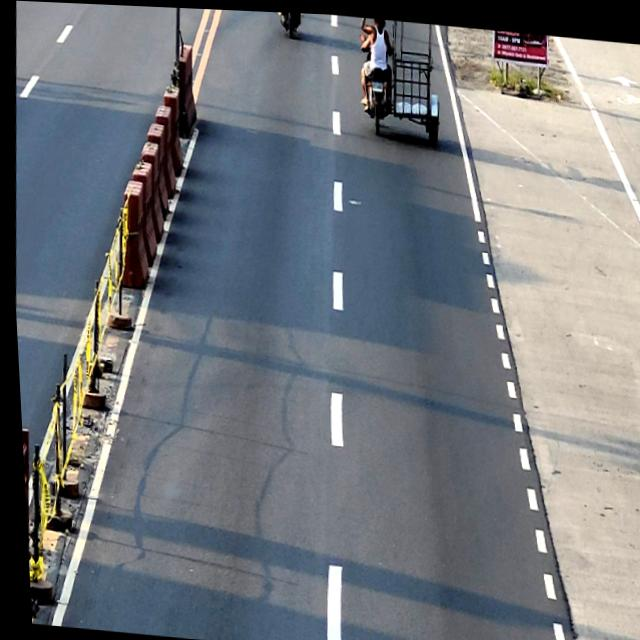License-Plate: (370, 77, 383, 90)
Tricycle: (352, 23, 444, 143)
